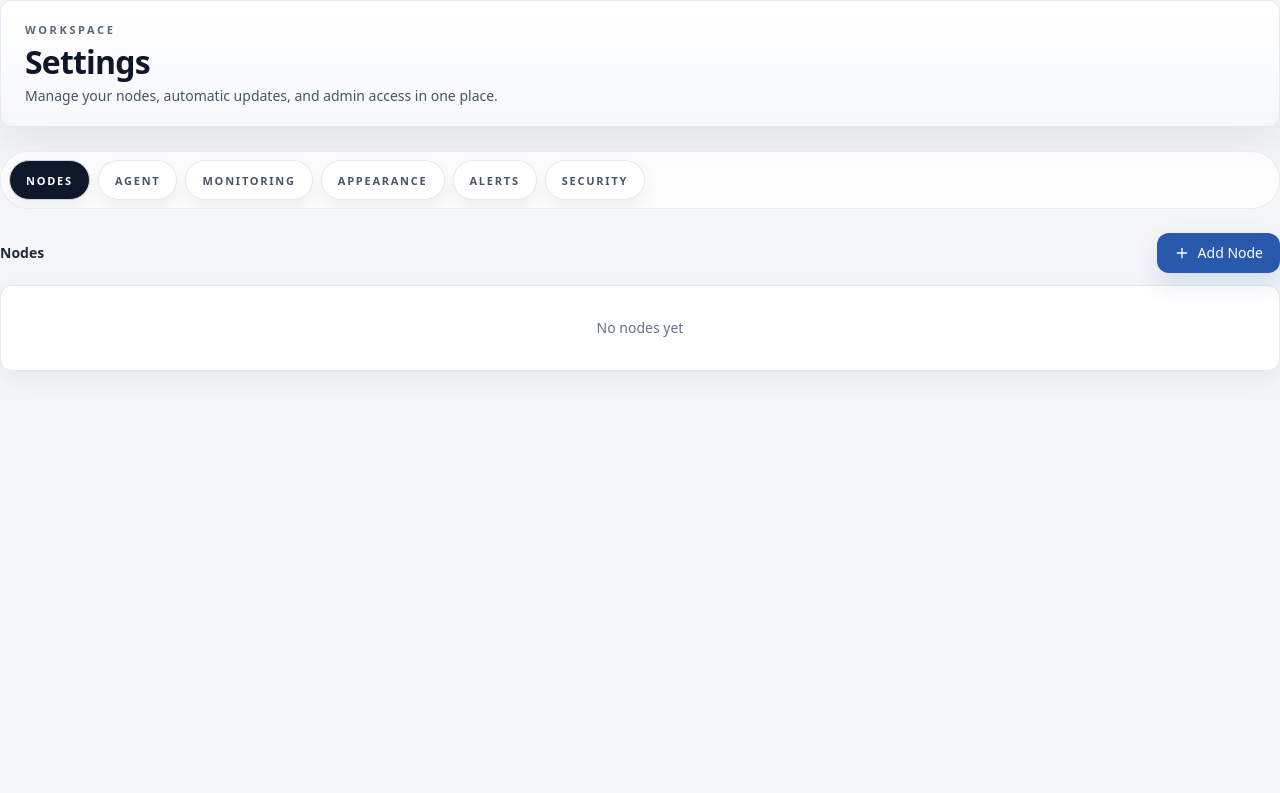
Test: metrics retention settings › loads the current retention and saves a new retention period
Step 1. Click the tab "Monitoring" → (249, 180), box [186, 160, 313, 200]
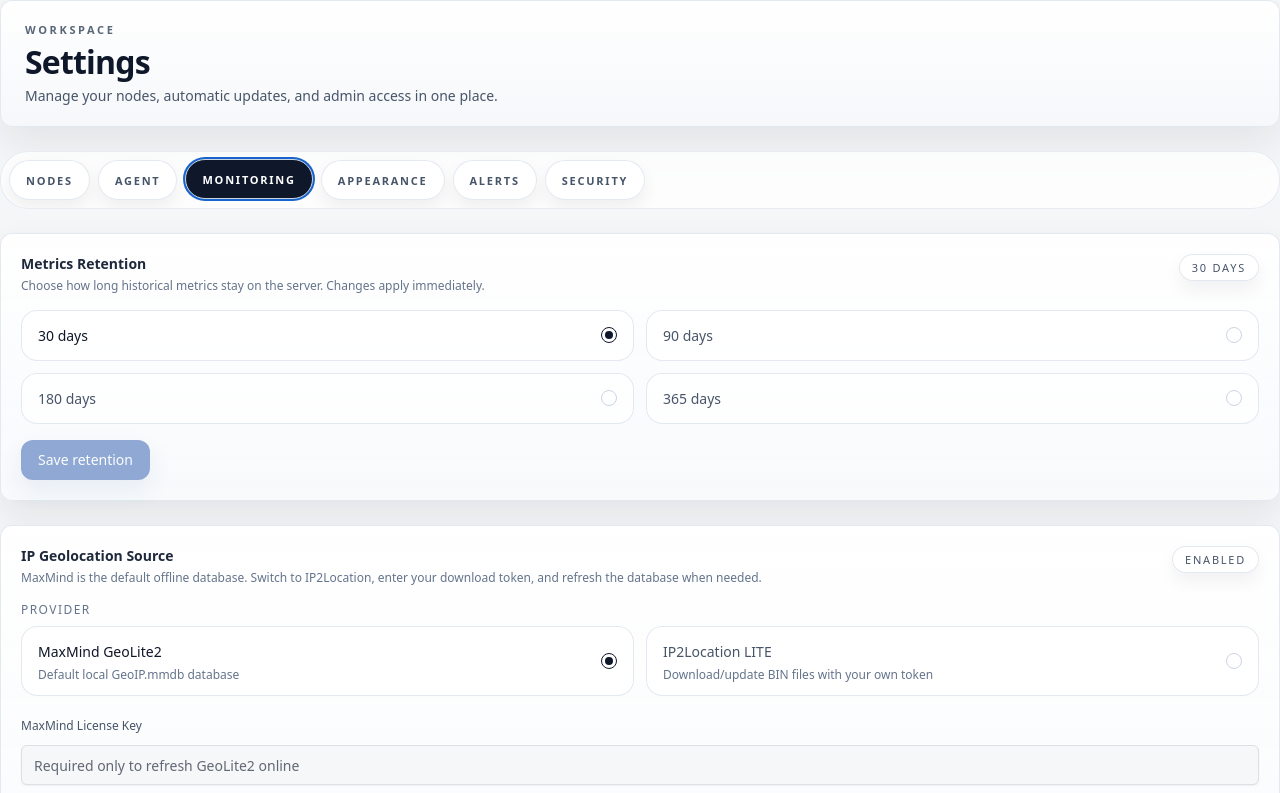
Expected: the heading "Metrics Retention" is shown, [21, 254, 146, 273]
Expected: the radio button labelled "30 days" is checked, [21, 310, 634, 361]
Expected: the radio button labelled "90 days" is shown
Step 2. Click the radio button labelled "90 days" → (688, 336), box [646, 310, 1259, 361]
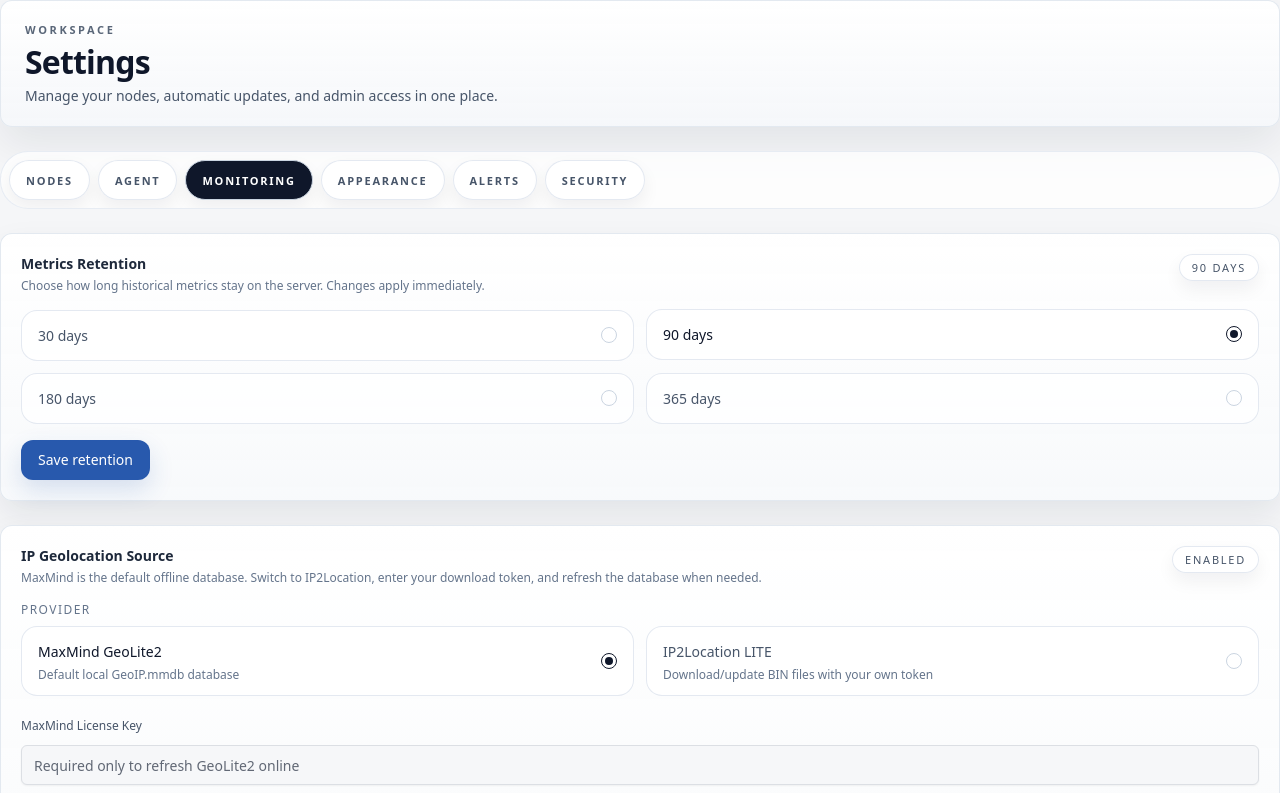
Step 3. Click the button "Save retention" → (86, 460), box [21, 440, 150, 480]
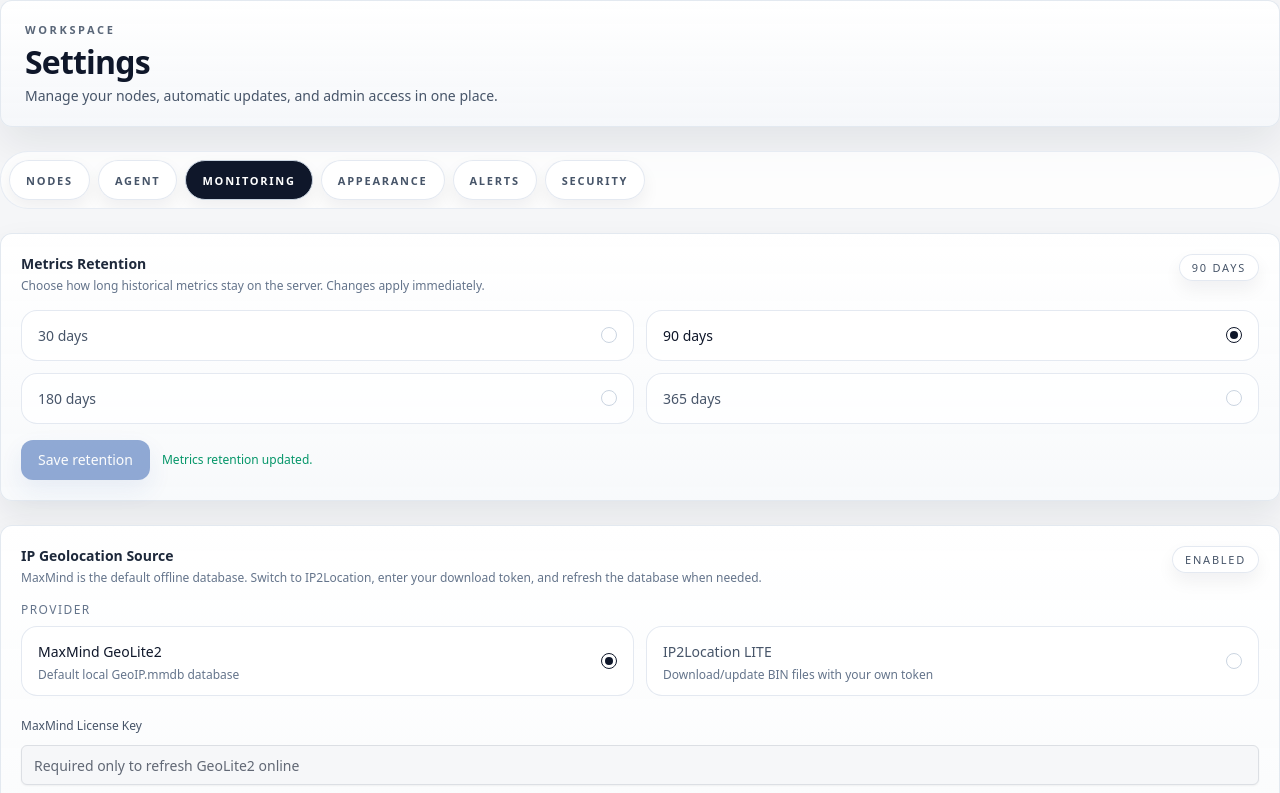
Expected: the text "Metrics retention updated." is shown, [162, 452, 312, 468]
